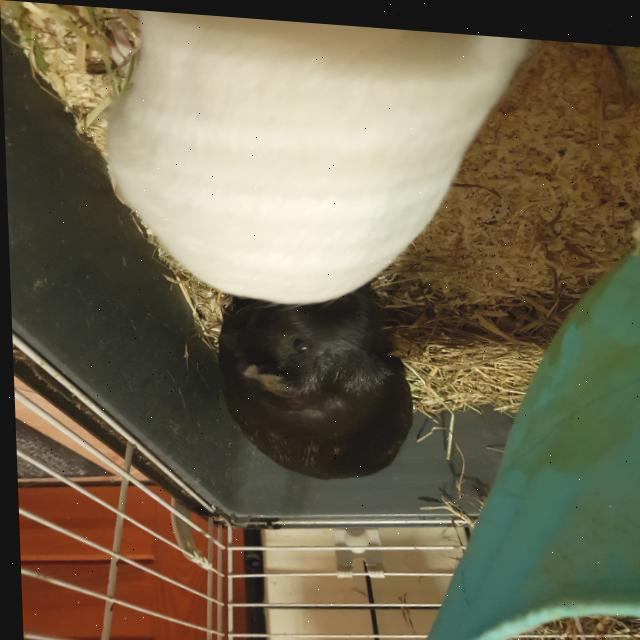guinea pig: (77, 5, 554, 321), (208, 264, 417, 484)
